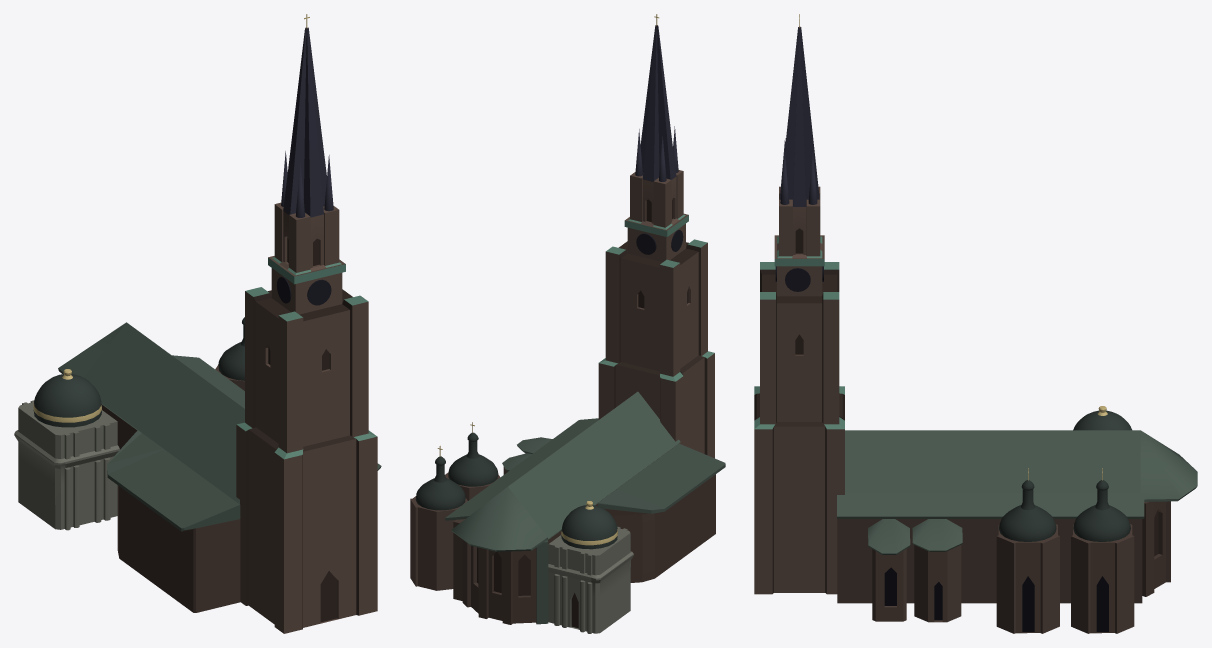
File: Riddarholmskyrkan.fbx
3 views of the same model, side by side, from view 1: azimuth 30°, elevation 25°; view 2: azimuth 150°, elevation 25°; view 3: azimuth 270°, elevation 25° (orthographic). The views are drawn at different scales.
Visible parts, largest first — view 1: pCube2, pCube1, pCube5, pCube3, pSphere2, pCube9, pCylinder6, pSphere7; view 2: pCube2, pCube1, pCube5, pCube3, pCylinder6, pCylinder12, pCube9, pSphere2, pSphere7, pSphere5; view 3: pCube2, pCube5, pCube1, pCube9, pCylinder12, pCylinder2, pCylinder3, pCylinder6, pCube8, pSphere7, pSphere5, pCylinder7 (+2 smaller).
Boxes of the visible parts, <box> form: pCube2: <box>236,27,377,633</box>; pCube1: <box>101,404,240,612</box>; pCube5: <box>83,322,244,504</box>; pCube3: <box>14,400,119,530</box>; pSphere2: <box>33,369,101,427</box>; pCube9: <box>172,355,244,408</box>; pCylinder6: <box>58,323,125,377</box>; pSphere7: <box>218,342,244,380</box>; pCube2: <box>598,25,714,458</box>; pCube1: <box>453,443,725,624</box>; pCube5: <box>508,391,680,539</box>; pCube3: <box>548,526,633,633</box>; pCylinder6: <box>451,487,547,551</box>; pCylinder12: <box>410,496,467,590</box>; pCube9: <box>445,418,598,520</box>; pSphere2: <box>561,501,617,549</box>; pSphere7: <box>415,478,465,510</box>; pSphere5: <box>448,454,498,486</box>; pCube2: <box>754,26,844,594</box>; pCube5: <box>845,430,1140,492</box>; pCube1: <box>837,501,1170,603</box>; pCube9: <box>837,492,1144,518</box>; pCylinder12: <box>1071,524,1134,633</box>; pCylinder2: <box>996,524,1059,633</box>; pCylinder3: <box>914,545,961,622</box>; pCylinder6: <box>1140,430,1197,501</box>; pCube8: <box>872,549,906,621</box>; pSphere7: <box>1073,505,1130,541</box>; pSphere5: <box>999,505,1056,541</box>; pCylinder7: <box>912,519,962,551</box>.
Size of the model in its own units: 149 by 346 by 248.
